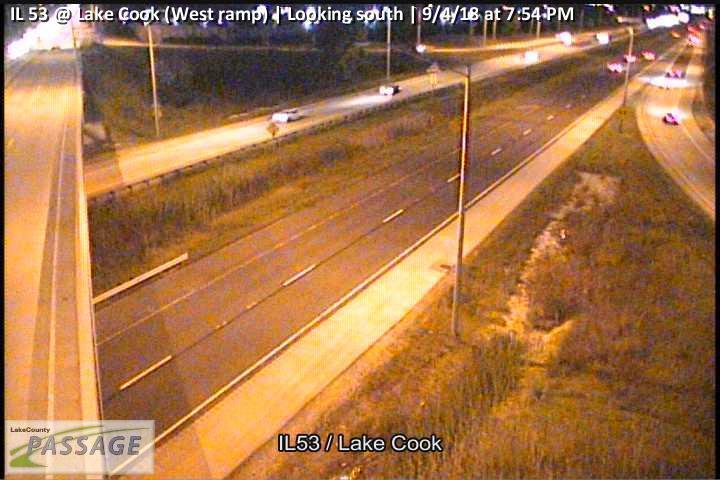SUV: (271, 108, 303, 124)
Sedan: (379, 84, 399, 97)
